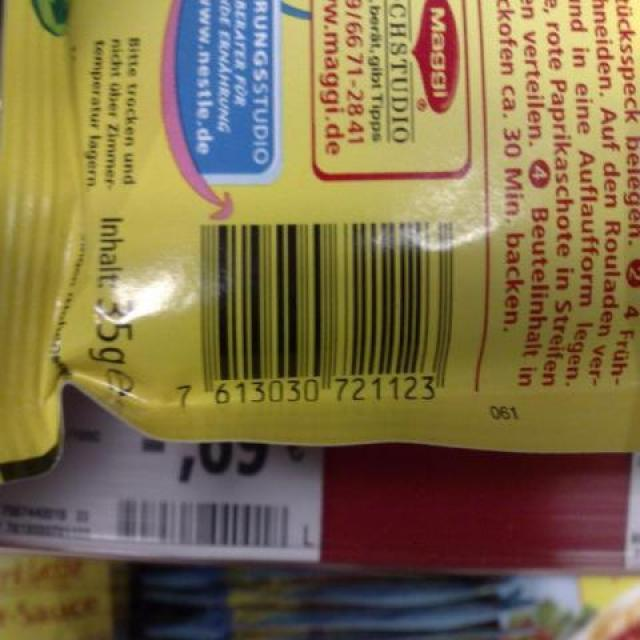Barcode: (171, 217, 466, 415)
